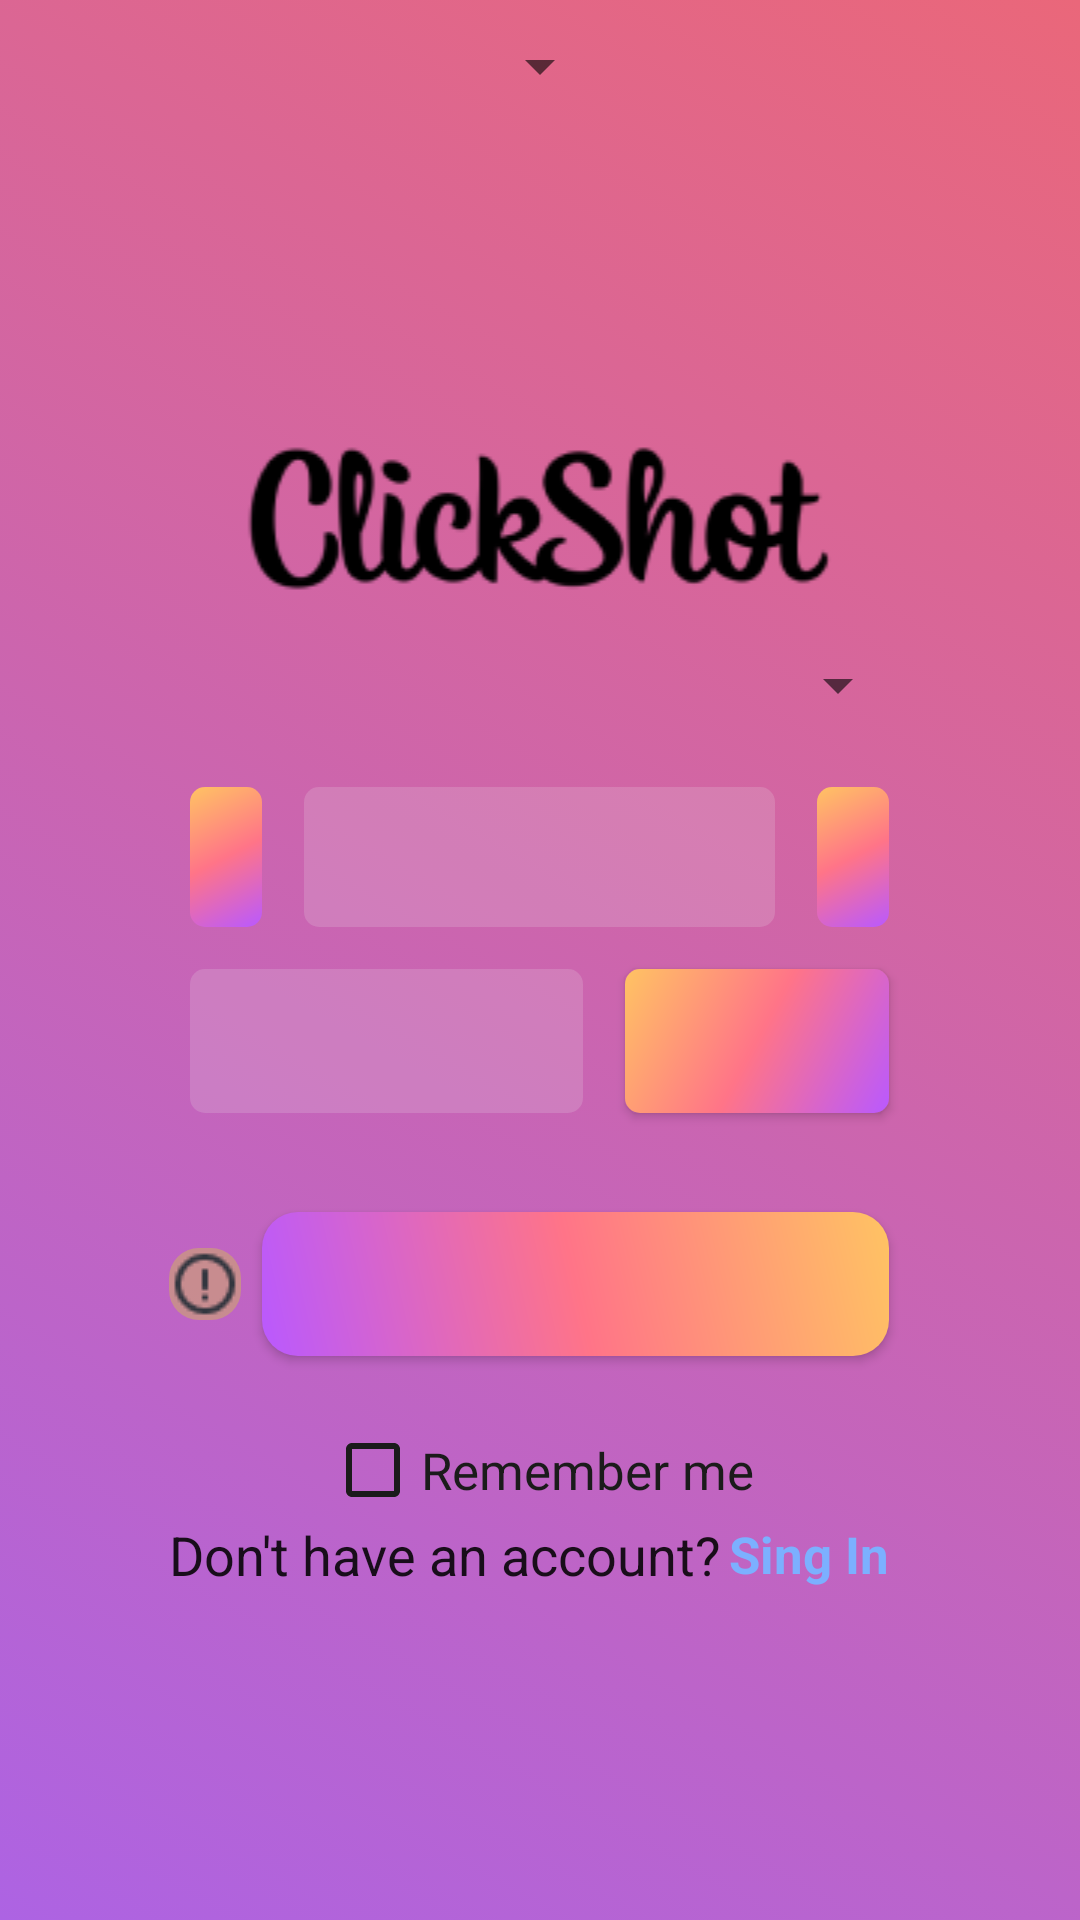

Named icons in this screenshot (1080 × 1920) and their centers, (x=x, y=y):
validation error: (x=205, y=1284)
